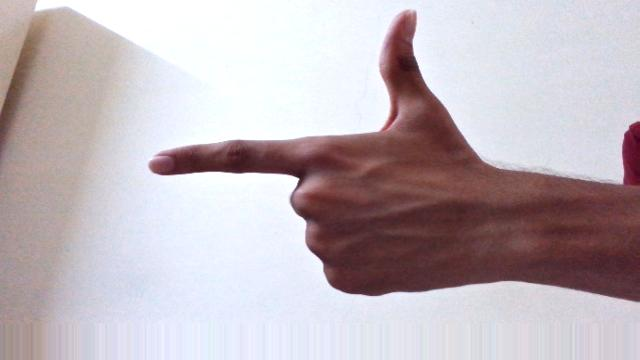Right: (148, 10, 487, 298)
